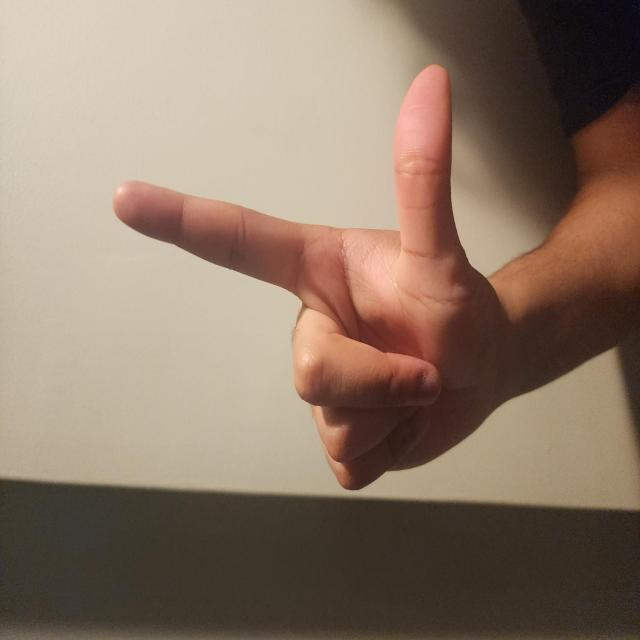L: (108, 146, 441, 640)
